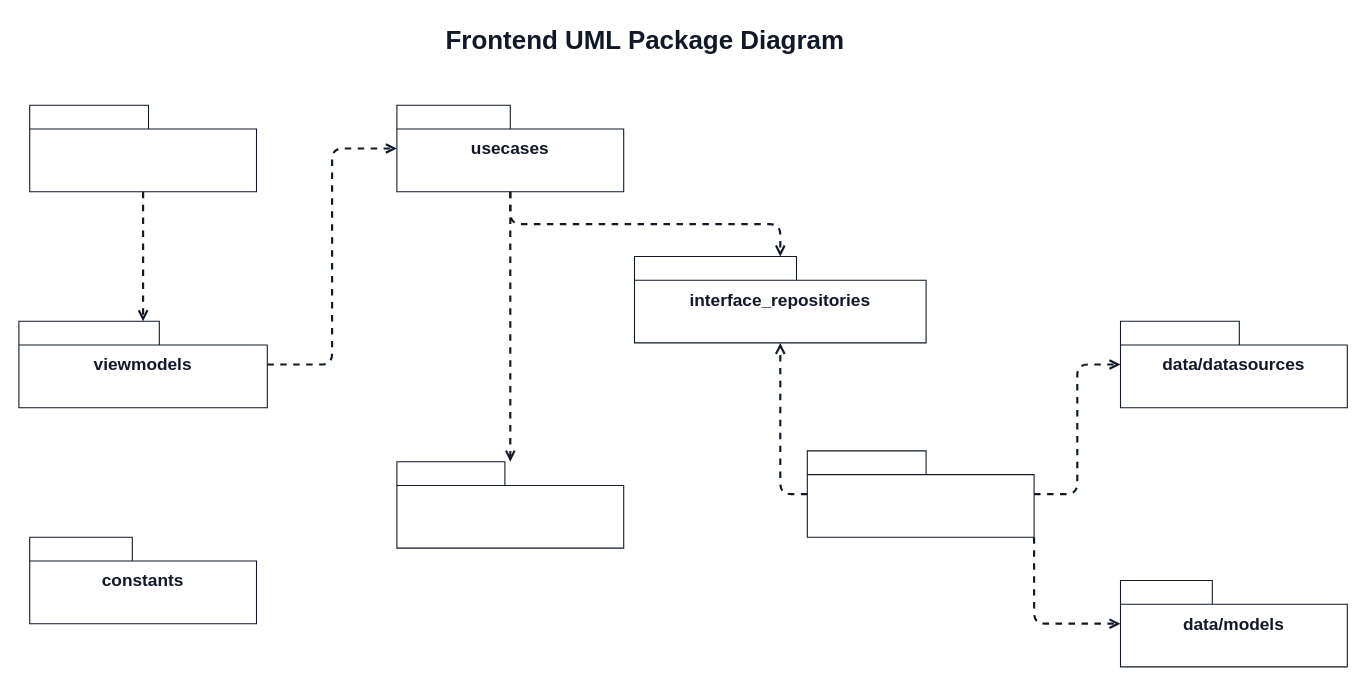
Some shapes in this 1366 by 686 pixel diagram are drawn without their labels. Here are the shapes that lost their labels. From the top down, the centre of each, then its label:
pixel 142 148: pages
pixel 510 504: entities
pixel 920 493: repositories
